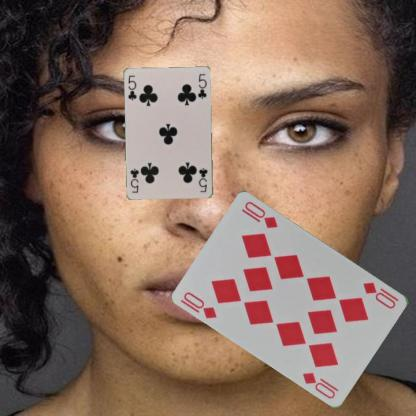10d: (360, 279, 401, 310), (182, 289, 218, 320)
5c: (126, 72, 138, 102), (196, 165, 208, 194)
